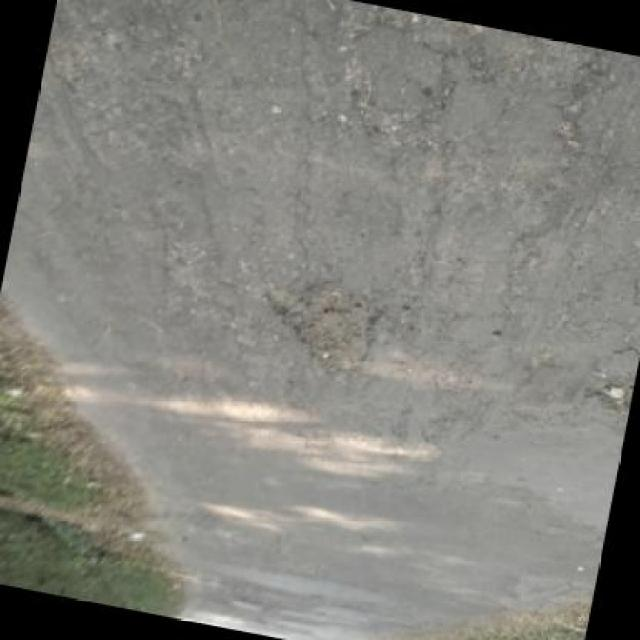pothole1: (244, 263, 393, 389), (575, 365, 634, 417)
